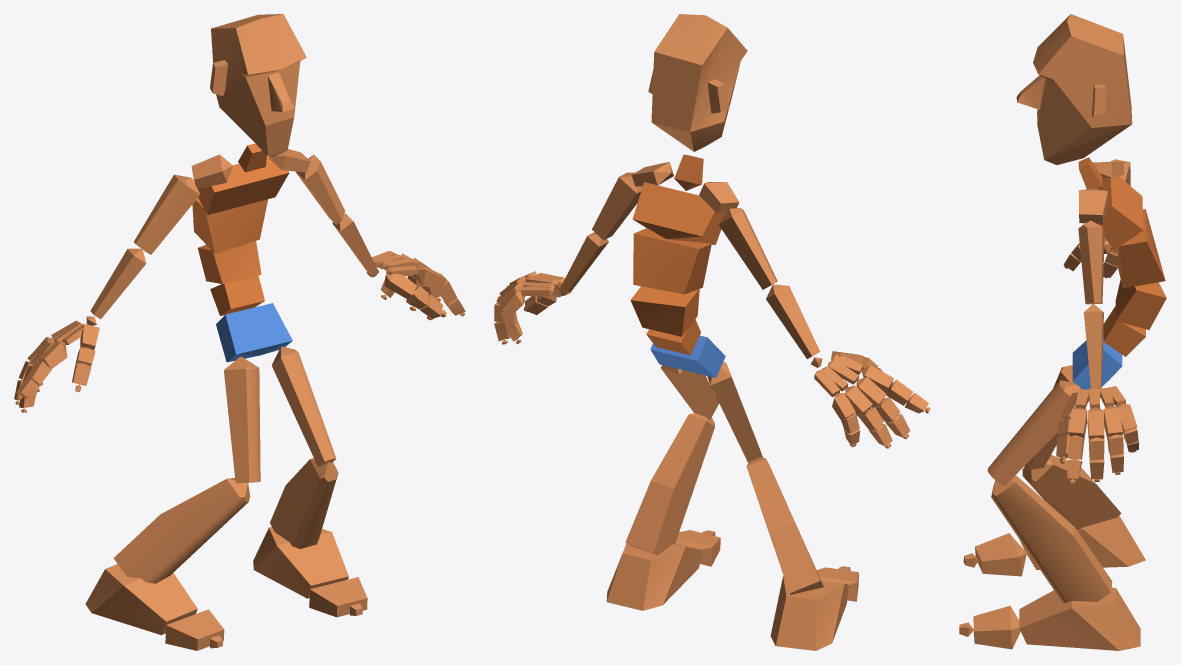
3 views of the same model, side by side, from view 1: azimuth 30°, elevation 25°; view 2: azimuth 150°, elevation 25°; view 3: azimuth 270°, elevation 25° (orthographic). The views are drawn at different scales.
Visible parts, largest first — view 1: BOPED_Head, BOPED_R_leg, BOPED_R_foot, BOPED_R_foot01, BOPED_L_leg, BOPED_R_legup, BOPED_L_legup, Bone01, Bone04, Bone05, BOPED_R_arm_upper, Bone03 (+8 smaller); view 2: BOPED_Head, BOPED_L_leg, BOPED_R_foot01, BOPED_R_foot, BOPED_R_leg, Bone04, Bone05, Bone03, BOPED_R_arm_upper, BOPED_R_legup, BOPED_R_arm_fore, Bone01 (+9 smaller); view 3: BOPED_Head, BOPED_L_leg, BOPED_R_foot01, BOPED_R_leg, BOPED_L_legup, Bone05, BOPED_R_foot, Bone04, Bone03, BOPED_L_arm_upper, BOPED_R_foot_toe01, BOPED_R_foot_toe04 (+14 smaller).
Part boxes in pixels (x1=…): BOPED_Head: x1=210, y1=14, x2=306, y2=157; BOPED_R_leg: x1=113, y1=478, x2=250, y2=583; BOPED_R_foot: x1=85, y1=564, x2=197, y2=635; BOPED_R_foot01: x1=253, y1=527, x2=348, y2=598; BOPED_L_leg: x1=270, y1=458, x2=338, y2=548; BOPED_R_legup: x1=224, y1=356, x2=260, y2=483; BOPED_L_legup: x1=271, y1=346, x2=336, y2=466; Bone01: x1=216, y1=303, x2=292, y2=362; Bone04: x1=192, y1=197, x2=267, y2=253; Bone05: x1=195, y1=156, x2=289, y2=214; BOPED_R_arm_upper: x1=134, y1=174, x2=200, y2=254; Bone03: x1=197, y1=241, x2=261, y2=283; BOPED_Head: x1=648, y1=14, x2=747, y2=151; BOPED_L_leg: x1=625, y1=413, x2=714, y2=555; BOPED_R_foot01: x1=606, y1=543, x2=702, y2=610; BOPED_R_foot: x1=770, y1=576, x2=848, y2=650; BOPED_R_leg: x1=746, y1=457, x2=823, y2=594; Bone04: x1=633, y1=228, x2=711, y2=294; Bone05: x1=632, y1=182, x2=726, y2=245; Bone03: x1=630, y1=286, x2=699, y2=336; BOPED_R_arm_upper: x1=718, y1=208, x2=777, y2=289; BOPED_R_legup: x1=707, y1=361, x2=762, y2=462; BOPED_R_arm_fore: x1=766, y1=284, x2=820, y2=358; Bone01: x1=650, y1=335, x2=725, y2=377; BOPED_Head: x1=1016, y1=14, x2=1132, y2=164; BOPED_L_leg: x1=991, y1=475, x2=1112, y2=602; BOPED_R_foot01: x1=1019, y1=587, x2=1140, y2=650; BOPED_R_leg: x1=1022, y1=455, x2=1121, y2=529; BOPED_L_legup: x1=987, y1=380, x2=1081, y2=486; Bone05: x1=1097, y1=176, x2=1143, y2=249; BOPED_R_foot: x1=1019, y1=515, x2=1145, y2=569; Bone04: x1=1117, y1=209, x2=1165, y2=288; Bone03: x1=1115, y1=280, x2=1166, y2=329; BOPED_L_arm_upper: x1=1078, y1=220, x2=1104, y2=304; BOPED_R_foot_toe01: x1=975, y1=533, x2=1026, y2=576; BOPED_R_foot_toe04: x1=973, y1=605, x2=1020, y2=649.
Bounding box in the file's own units: 143 × 178 × 56.5.
